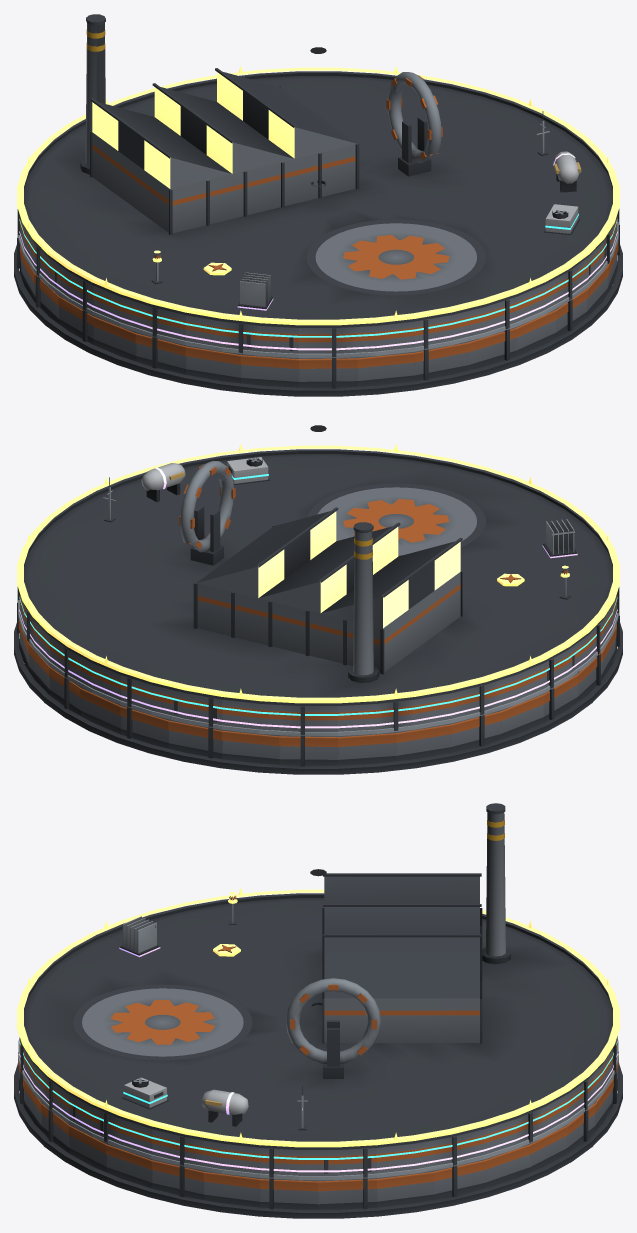
Rendered from magnet_works_xl_far.glb.
The picture shows the model from 3 angles, top to bottom: view 1: azimuth 30°, elevation 25°; view 2: azimuth 150°, elevation 25°; view 3: azimuth 270°, elevation 25°; orthographic projection.
Parts seen in each view (by area): view 1: Roof, Base, L5, L4, L2, L3; view 2: Roof, Base, L5, L4, L2, L3; view 3: Roof, Base, L5, L4, L2, L3.
Boxes of the visible parts, x1,y1,x2,y2 form: Roof: (17, 14, 619, 356); Base: (14, 224, 622, 396); L5: (17, 65, 619, 325); L4: (19, 151, 617, 350); L2: (18, 111, 618, 358); L3: (19, 180, 617, 337); Roof: (17, 425, 619, 734); Base: (14, 602, 622, 774); L5: (17, 444, 619, 703); L4: (19, 463, 617, 728); L2: (18, 477, 618, 736); L3: (19, 457, 617, 715); Roof: (19, 803, 617, 1177); Base: (14, 1051, 622, 1218); L5: (17, 888, 619, 1147); L4: (19, 916, 617, 1172); L2: (18, 1038, 618, 1180); L3: (19, 1002, 617, 1159).
Size of the model in its own units: 23.15 by 9.12 by 23.15.
